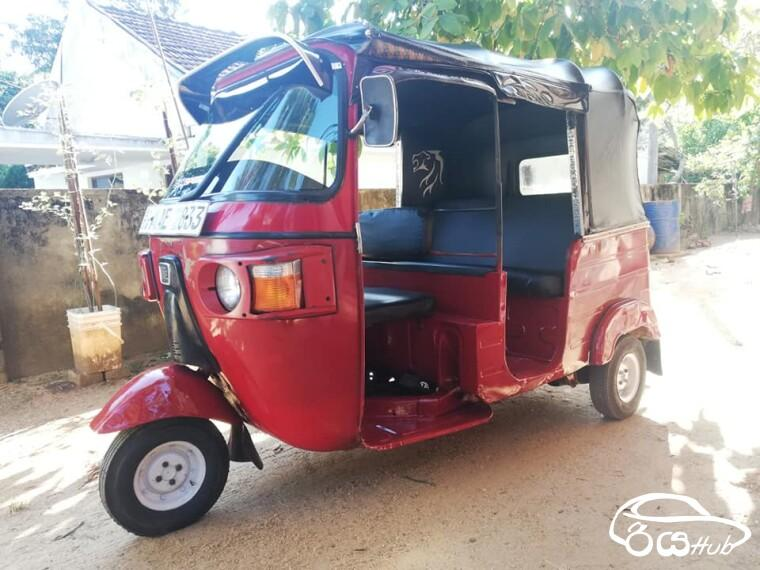threewheel: (88, 23, 663, 539)
